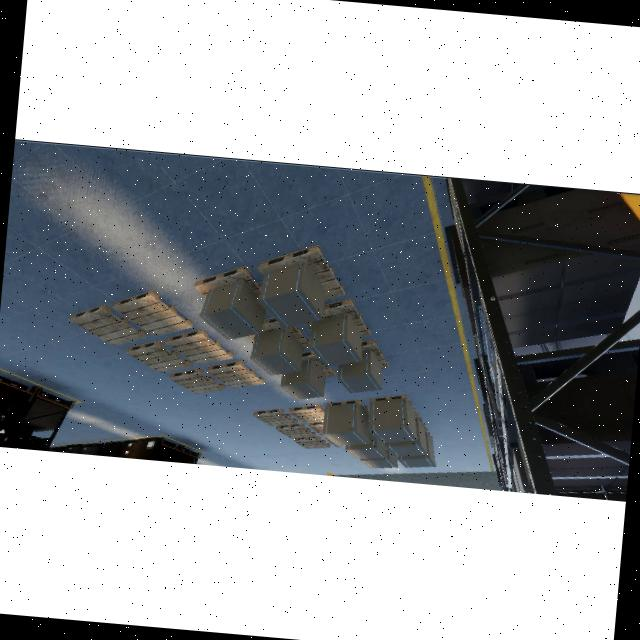wooden_pallet: (257, 244, 345, 299), (112, 290, 193, 337), (68, 303, 147, 346), (164, 329, 234, 365), (192, 265, 262, 297), (323, 298, 371, 337), (361, 339, 389, 369)
